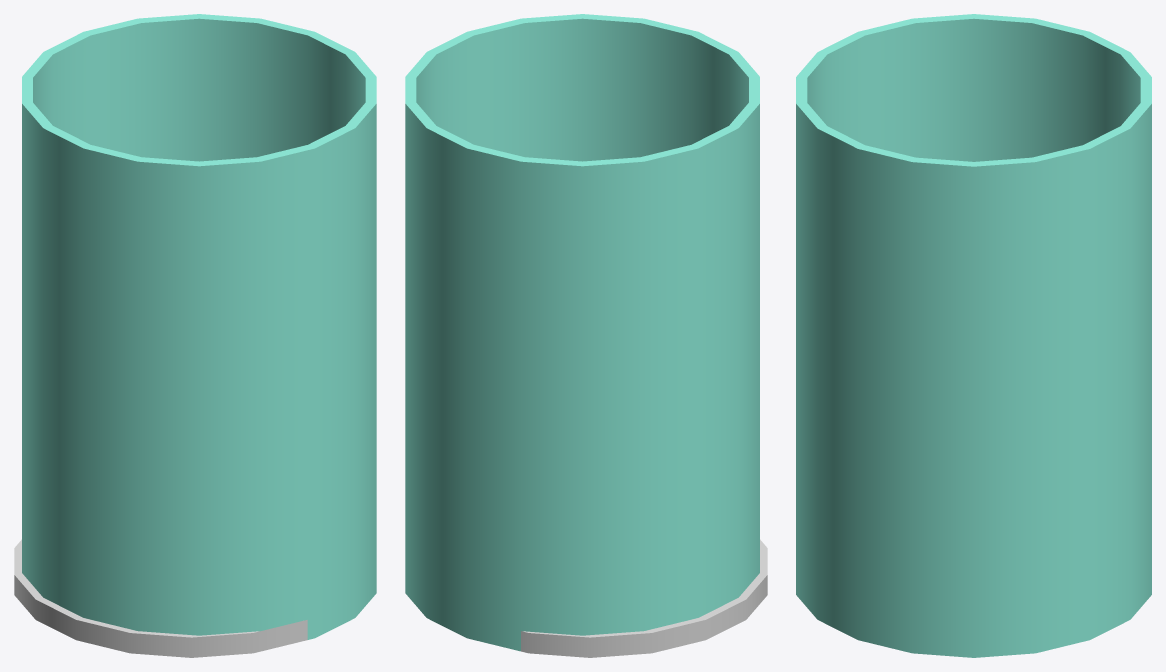
Rendered from GlassCase.fbx.
3 renders of one model, left to right at view 1: azimuth 30°, elevation 25°; view 2: azimuth 150°, elevation 25°; view 3: azimuth 270°, elevation 25°, orthographic.
Parts seen in each view (by area): view 1: Case, Cylinder001; view 2: Case, Cylinder001; view 3: Case.
Boxes of the visible parts, x1=… form: Case: x1=22, y1=14, x2=376, y2=639; Cylinder001: x1=14, y1=539, x2=307, y2=657; Case: x1=405, y1=14, x2=759, y2=651; Cylinder001: x1=521, y1=539, x2=767, y2=657; Case: x1=796, y1=14, x2=1151, y2=657.
Size of the model in its own units: 32.78 by 48 by 31.51.
